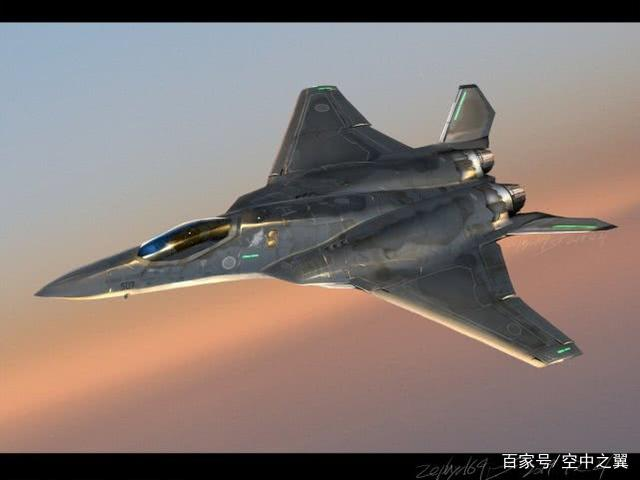airplane: (32, 60, 621, 369)
